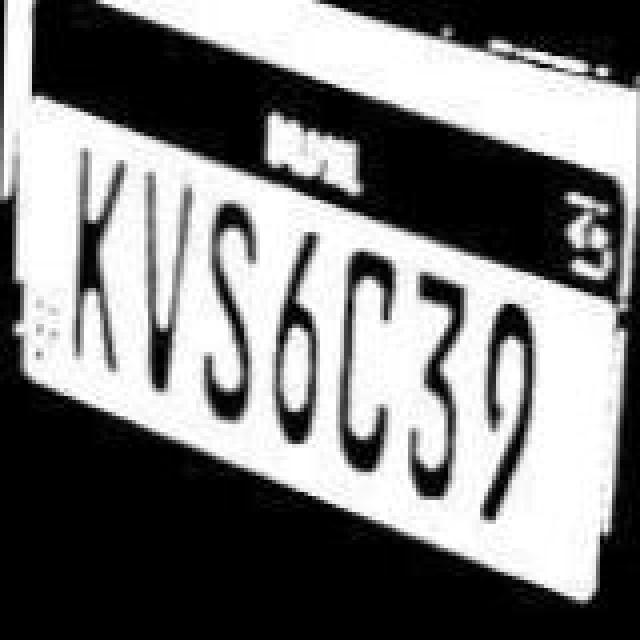3: (406, 256, 474, 524)
6: (268, 224, 336, 448)
9: (482, 296, 550, 544)
C: (338, 240, 410, 480)
K: (64, 146, 128, 374)
S: (190, 200, 262, 436)
V: (128, 172, 196, 400)
